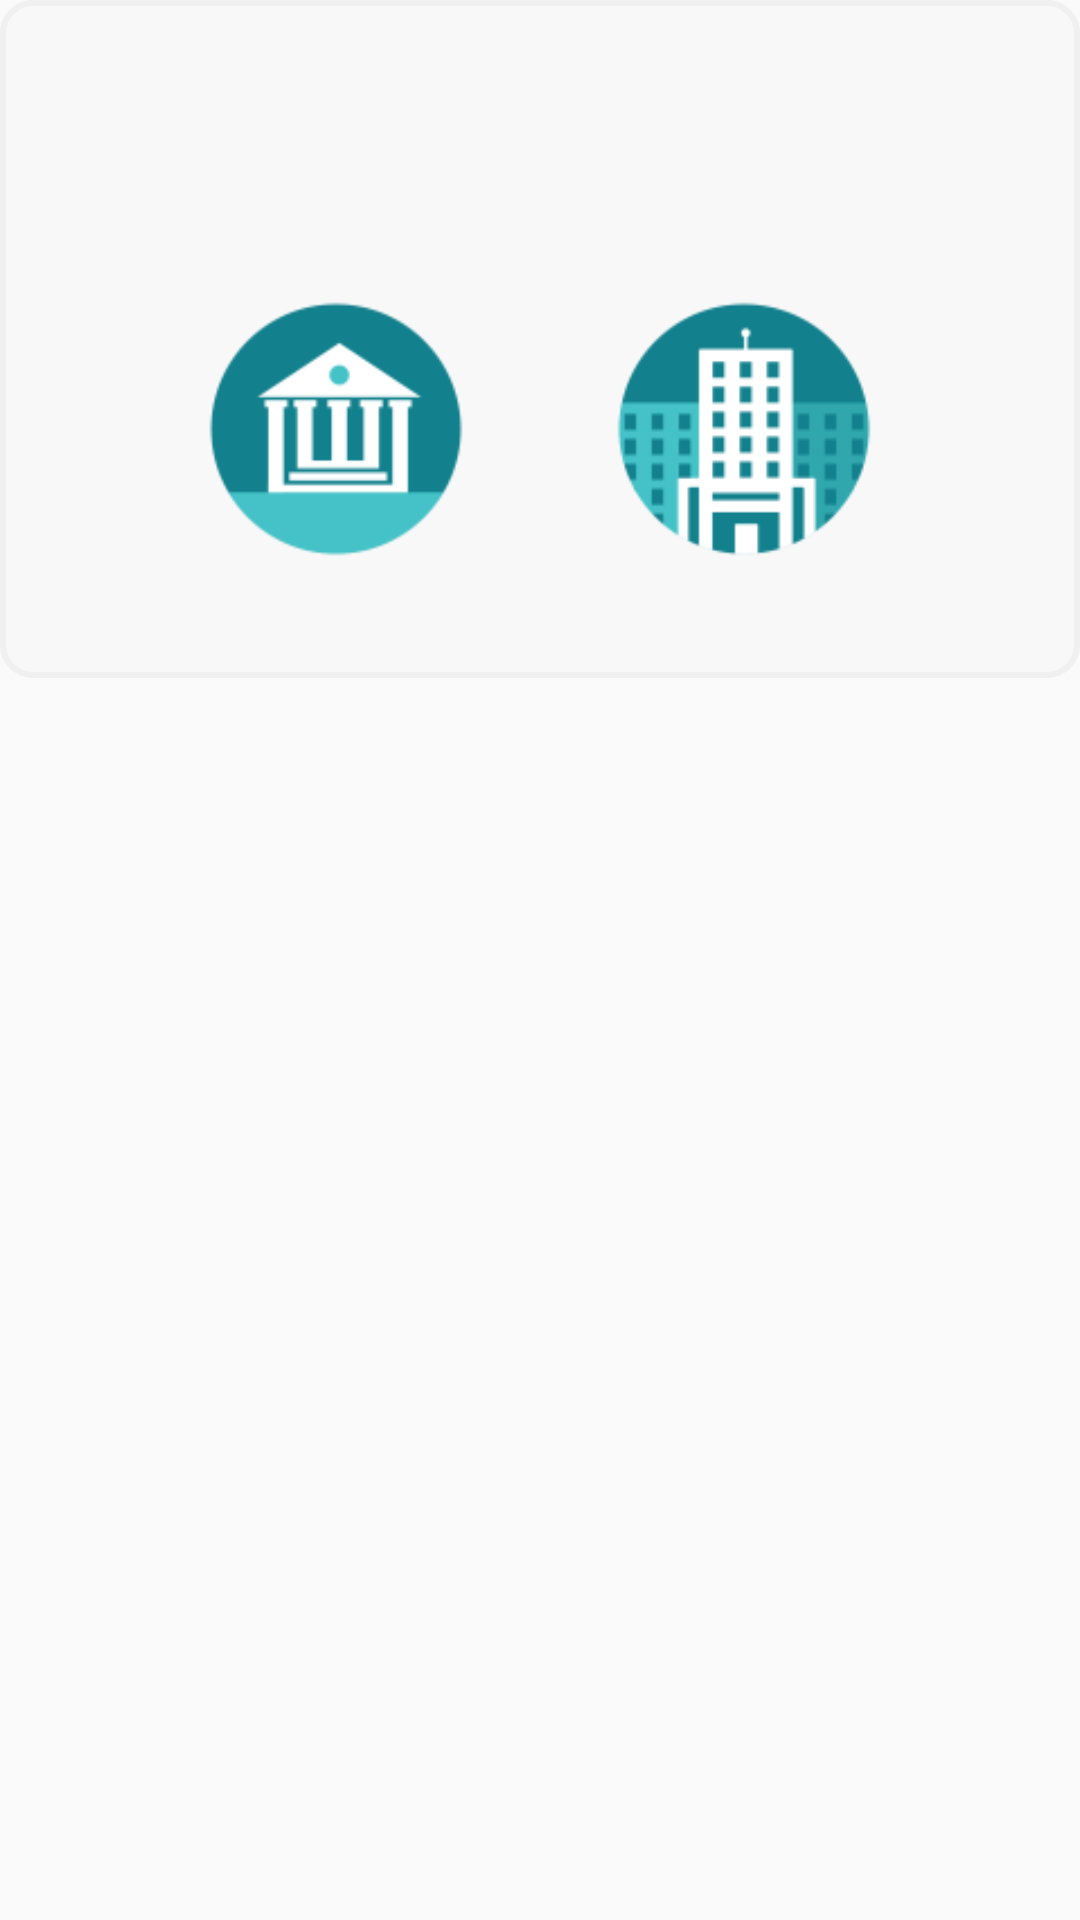

Icons on this 1080 x 1920 Android screen, each with its box as Rect(x1, y1, x2, y2):
grid city: Rect(617, 302, 871, 555)
grid country: Rect(209, 302, 463, 556)
